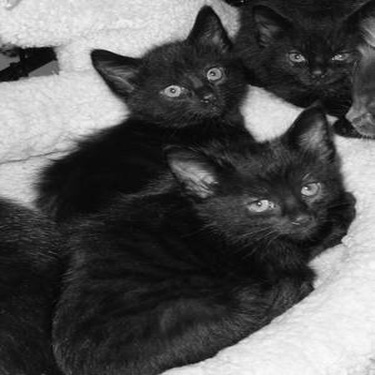cat: (49, 101, 353, 354), (22, 1, 259, 125), (225, 6, 374, 122)
